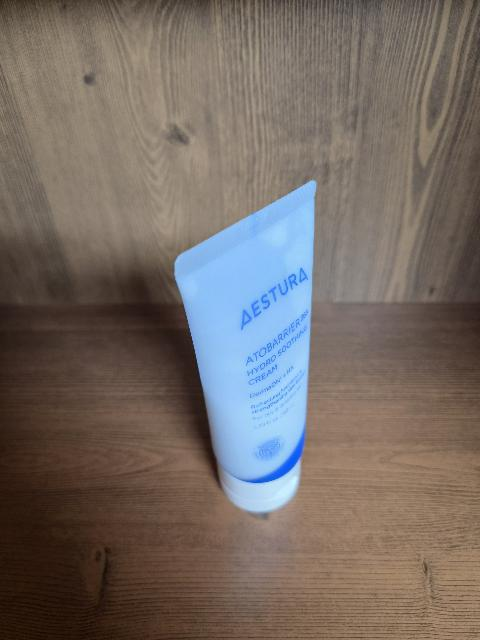handcream: (174, 181, 317, 512)
